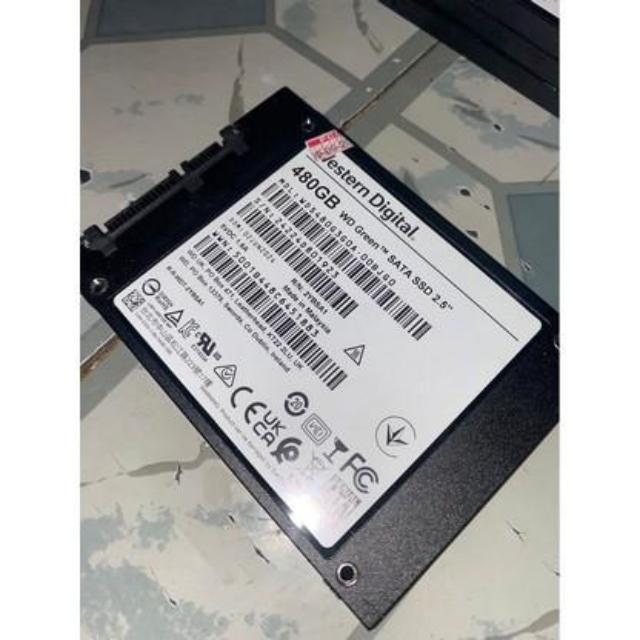DISK: (77, 79, 560, 627)
